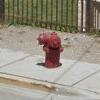Hydrant: (29, 24, 67, 68)
